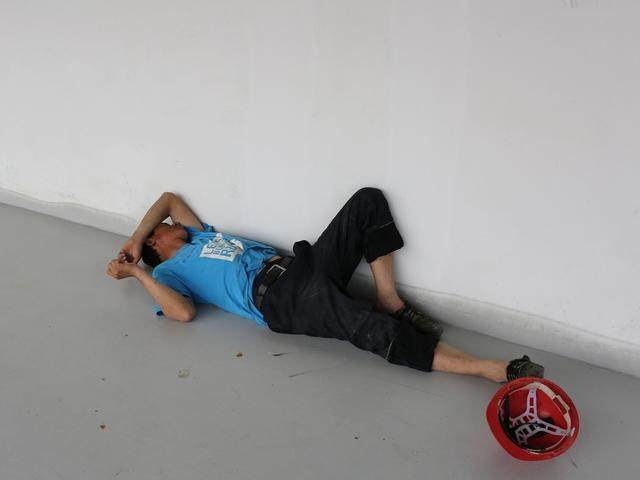fall: (99, 174, 550, 401)
